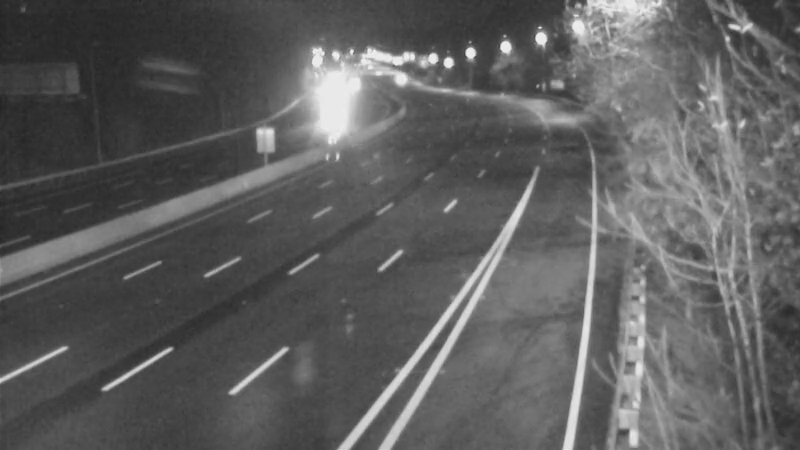vehicle: (374, 57, 424, 107), (308, 98, 358, 148)
